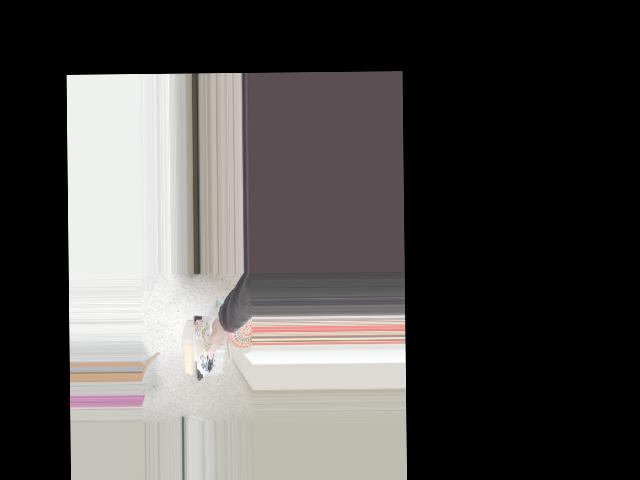cheese: (165, 307, 229, 383)
